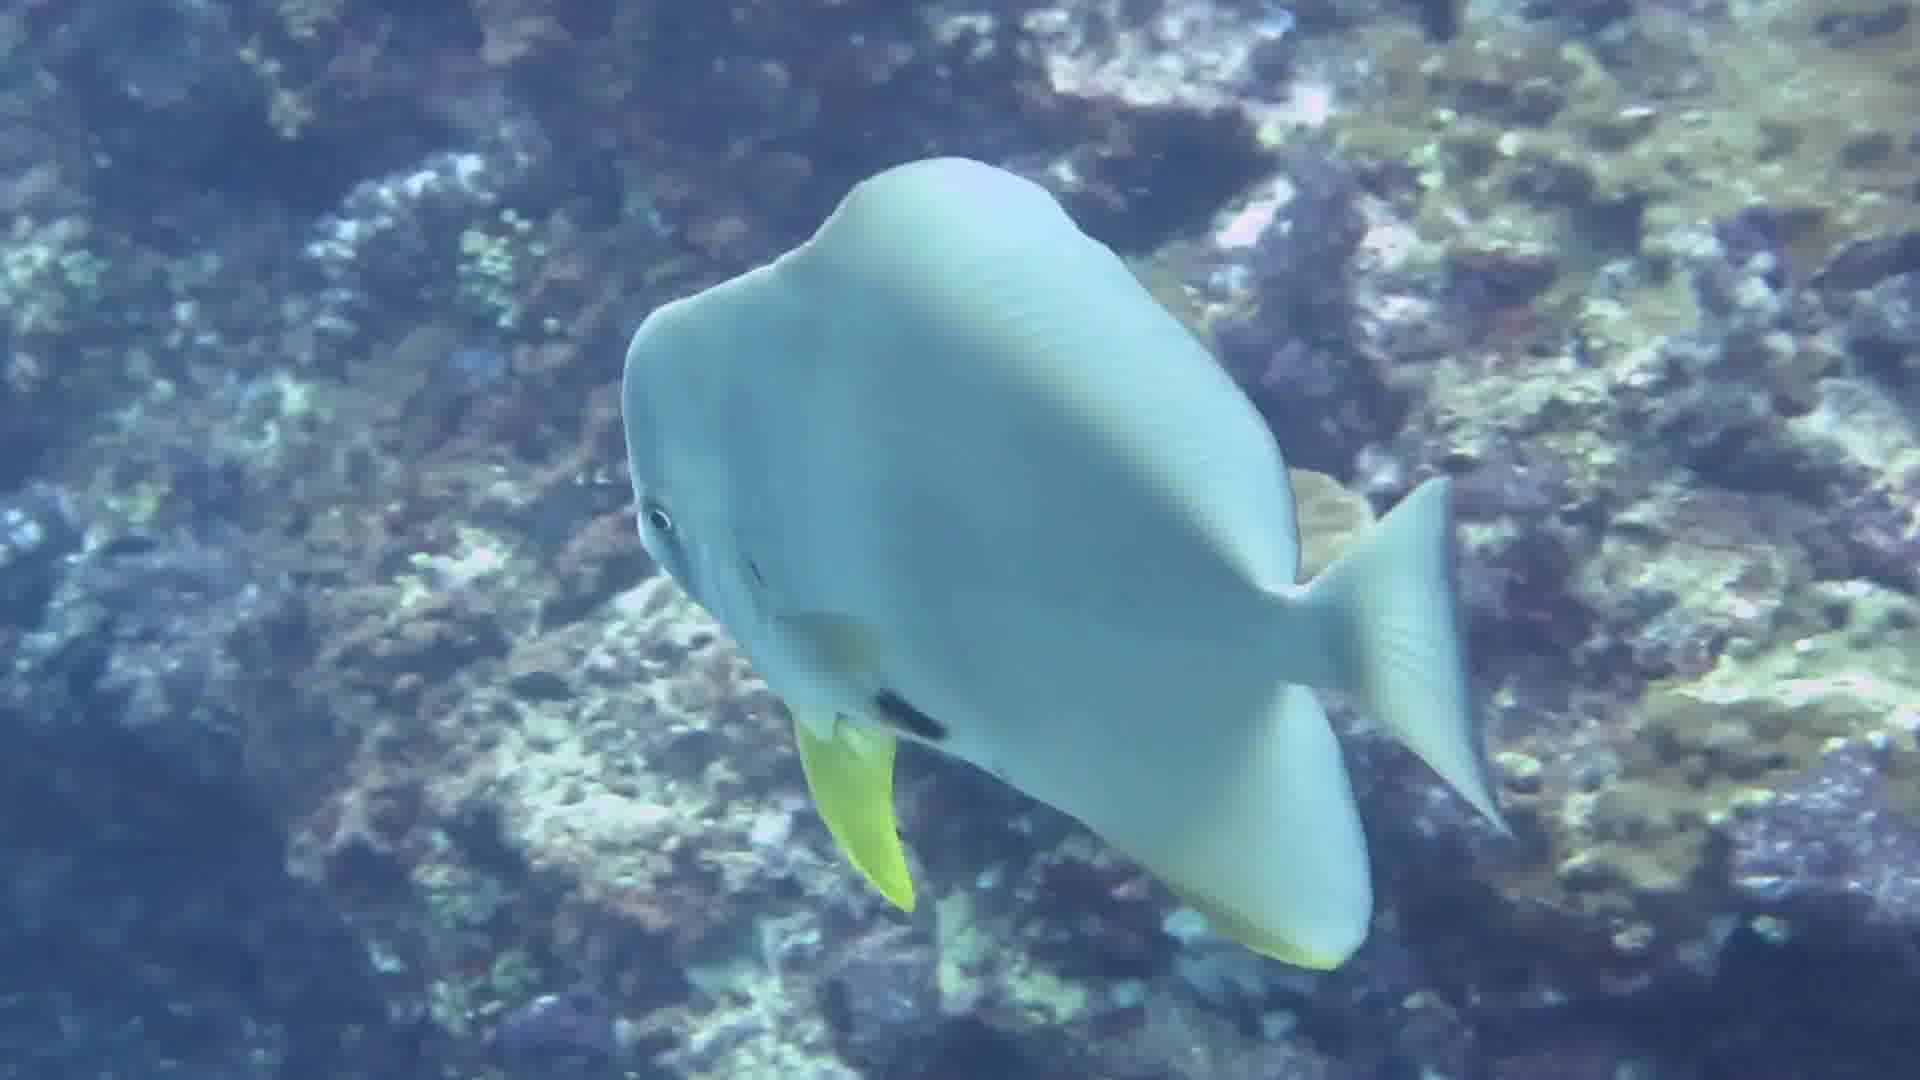Platax teira: (526, 141, 1580, 975)
